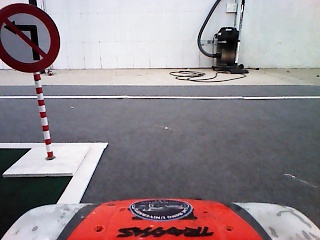ban_left: (1, 3, 60, 72)
